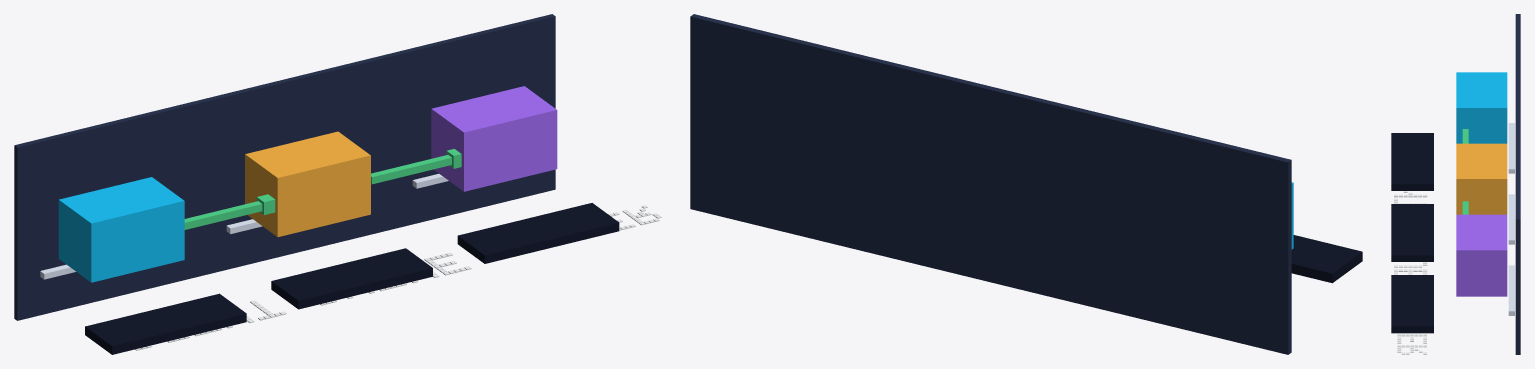
3 views of the same model, side by side, from view 1: azimuth 30°, elevation 25°; view 2: azimuth 150°, elevation 25°; view 3: azimuth 270°, elevation 25° (orthographic). The views are drawn at different scales.
Parts seen in each view (by area): view 1: annotated-text-labels; view 2: annotated-text-labels; view 3: annotated-text-labels.
Boxes of the visible parts, x1,y1,x2,y2 form: annotated-text-labels: [14, 14, 661, 354]; annotated-text-labels: [690, 14, 1362, 354]; annotated-text-labels: [1391, 14, 1520, 354].
Size of the model in its own units: 8.29 by 2.4 by 2.07.
